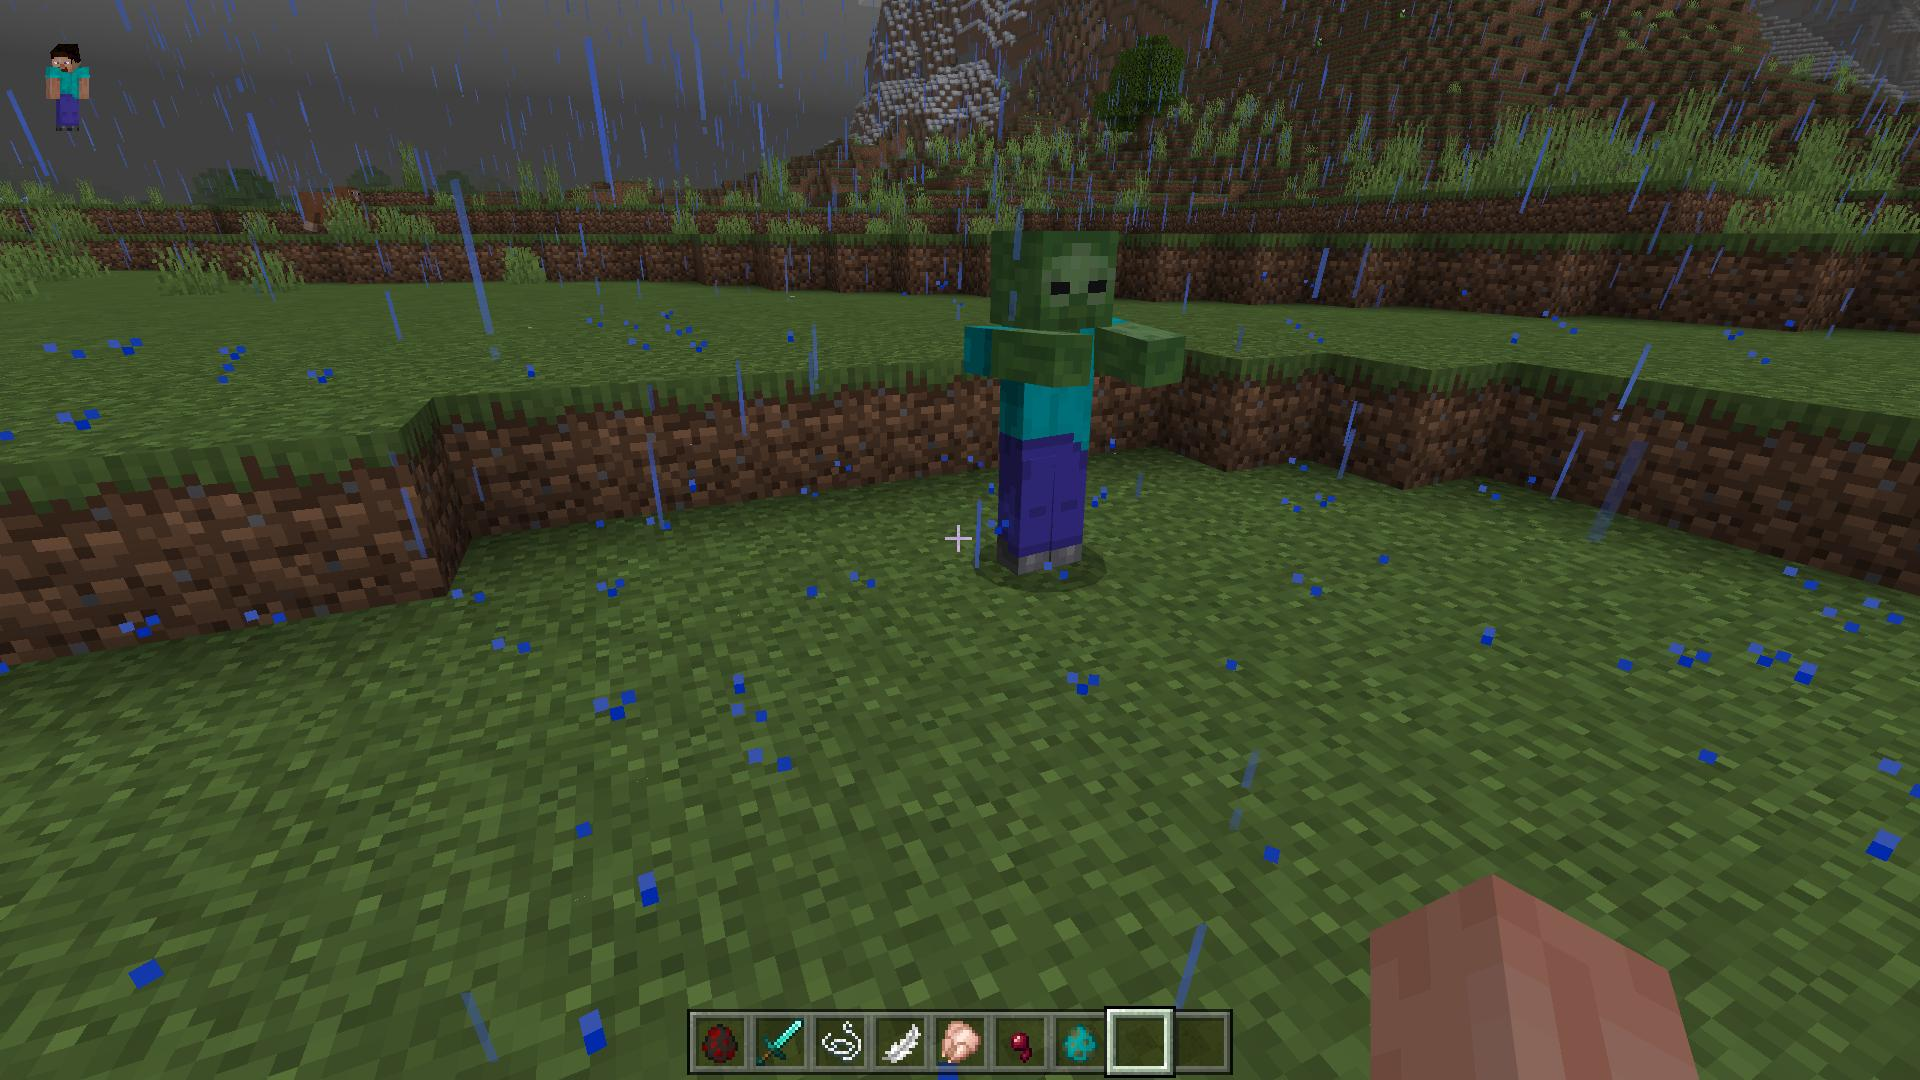zombie: (960, 228, 1187, 574)
